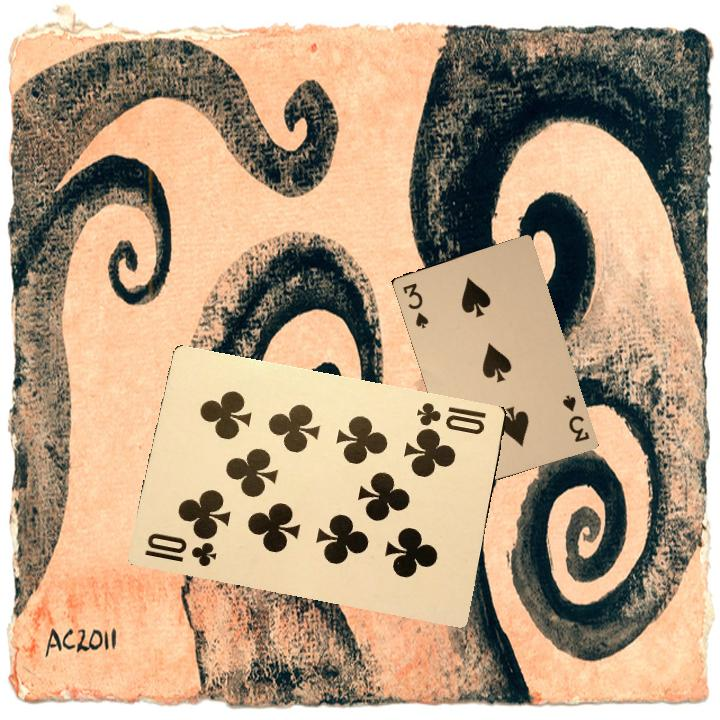10c: (140, 529, 219, 569), (413, 398, 489, 437)
3s: (558, 391, 592, 445), (399, 279, 431, 331)
